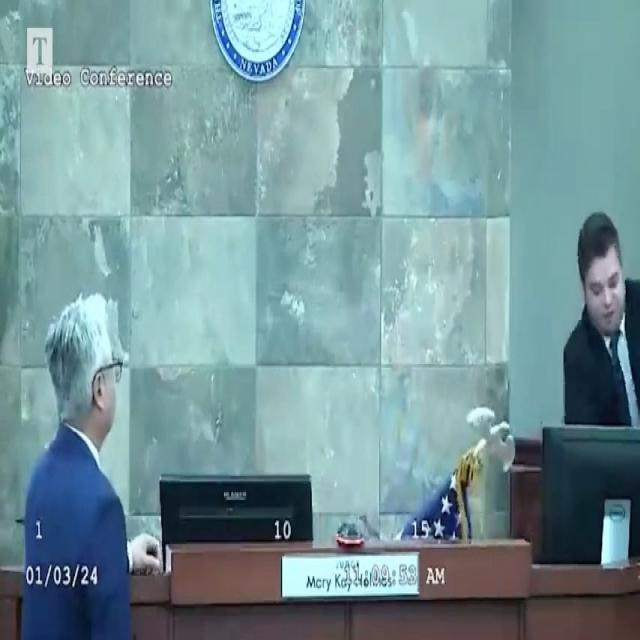non-fight: (19, 283, 134, 640), (561, 203, 640, 425)
